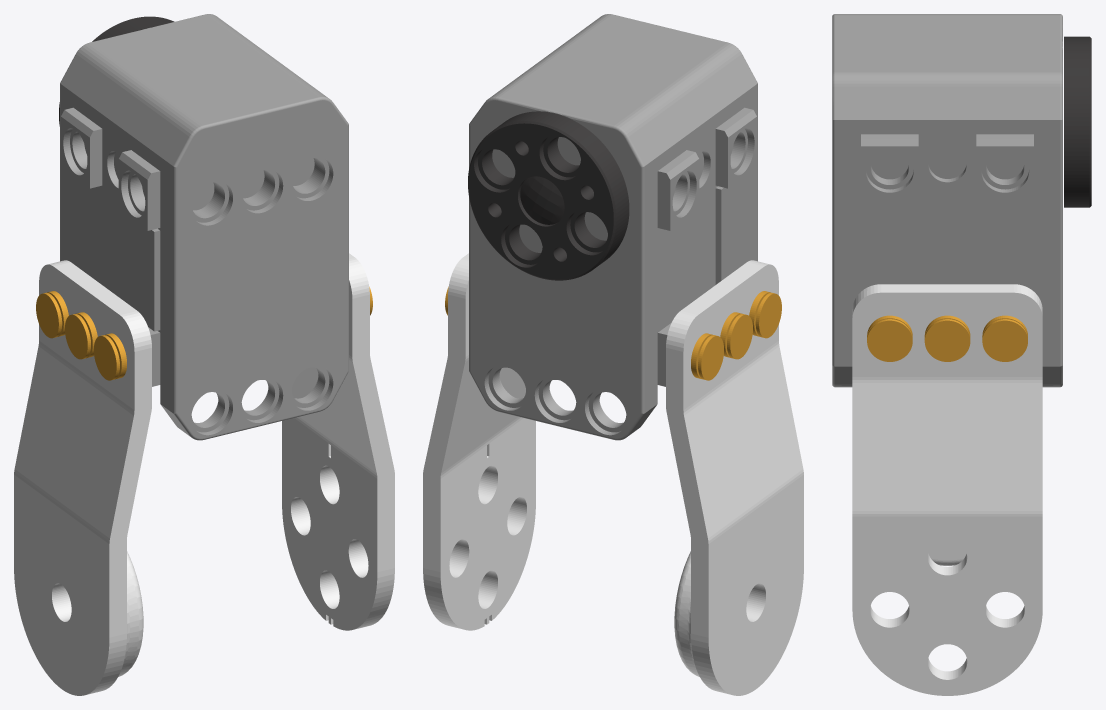
Rendered from section_3.dae.
3 views of the same model, side by side, from view 1: azimuth 30°, elevation 25°; view 2: azimuth 150°, elevation 25°; view 3: azimuth 270°, elevation 25° (orthographic).
Visible parts, largest first — view 1: body, side2side, horn2horn, insert (×3), horn; view 2: body, side2side, horn2horn, horn, insert (×3); view 3: body, horn2horn, horn, insert (×3), side2side.
Boxes of the visible parts, box(x1,y1,x2,y2) form: body: box(60, 14, 348, 440); side2side: box(14, 260, 151, 695); horn2horn: box(282, 253, 394, 630); insert (×3): box(36, 292, 119, 380); horn: box(59, 16, 174, 126); body: box(469, 14, 757, 440); side2side: box(666, 260, 803, 695); horn2horn: box(423, 253, 535, 630); horn: box(468, 111, 629, 280); insert (×3): box(698, 292, 781, 380); body: box(832, 14, 1062, 387); horn2horn: box(852, 284, 1042, 695); horn: box(1064, 36, 1091, 207); insert (×3): box(867, 319, 1027, 361); side2side: box(928, 539, 966, 565).
Size of the model in its own units: 0.0342 by 0.0669 by 0.027.
